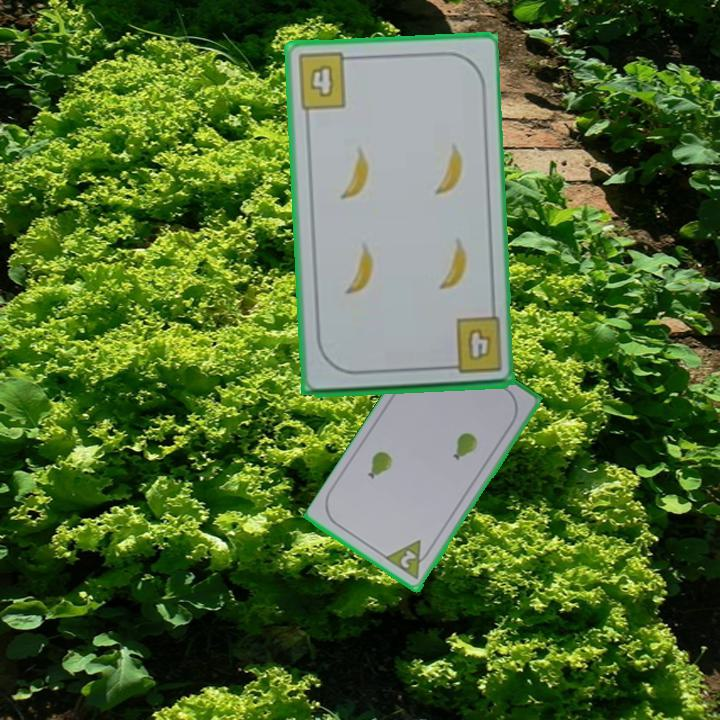2p: (383, 536, 435, 583)
4b: (293, 49, 358, 113), (440, 314, 505, 377)
